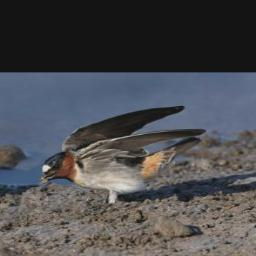Swallow: (40, 105, 207, 215)
